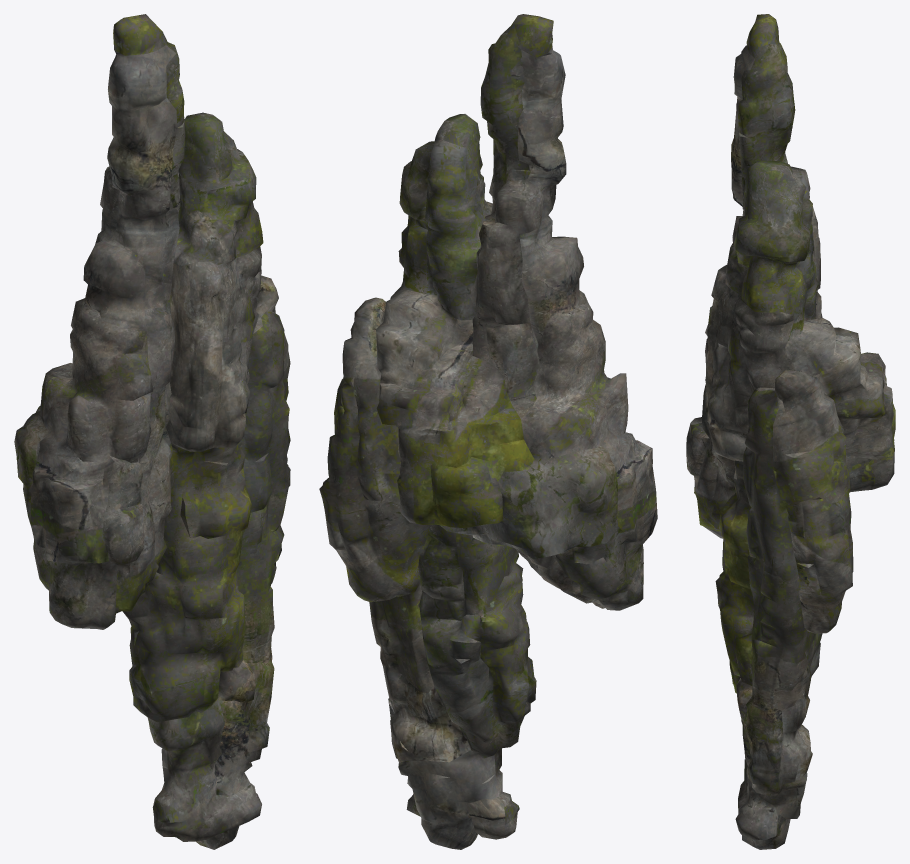
The model's file is Rock21.fbx.
3 renders of one model, left to right at view 1: azimuth 30°, elevation 25°; view 2: azimuth 150°, elevation 25°; view 3: azimuth 270°, elevation 25°, orthographic. The views are drawn at different scales.
Parts seen in each view (by area): view 1: LV_Veolan_Cliff02_SM_IJH; view 2: LV_Veolan_Cliff02_SM_IJH; view 3: LV_Veolan_Cliff02_SM_IJH.
Part boxes in pixels (<box>): LV_Veolan_Cliff02_SM_IJH: <box>14,14,290,849</box>; LV_Veolan_Cliff02_SM_IJH: <box>319,14,657,849</box>; LV_Veolan_Cliff02_SM_IJH: <box>686,14,895,849</box>.
Size of the model in its own units: 6.88 by 19.91 by 4.79.
1 material, 1 textured.
